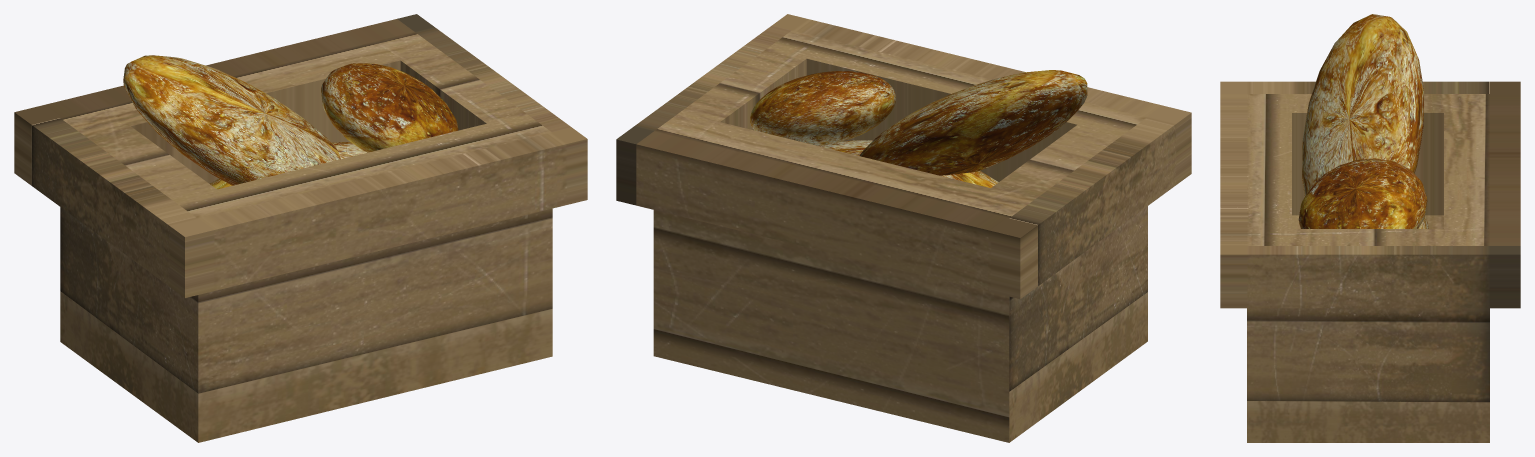
The model's file is brood crate.fbx.
3 renders of one model, left to right at view 1: azimuth 30°, elevation 25°; view 2: azimuth 150°, elevation 25°; view 3: azimuth 270°, elevation 25°, orthographic. The views are drawn at different scales.
Parts seen in each view (by area): view 1: polySurface38; view 2: polySurface38; view 3: polySurface38.
Boxes of the visible parts, bbox=[...] form: polySurface38: bbox=[14, 14, 587, 442]; polySurface38: bbox=[616, 14, 1191, 442]; polySurface38: bbox=[1220, 14, 1520, 442].
Size of the model in its own units: 1.25 by 0.9435 by 0.9146.
2 materials, 2 textured.
